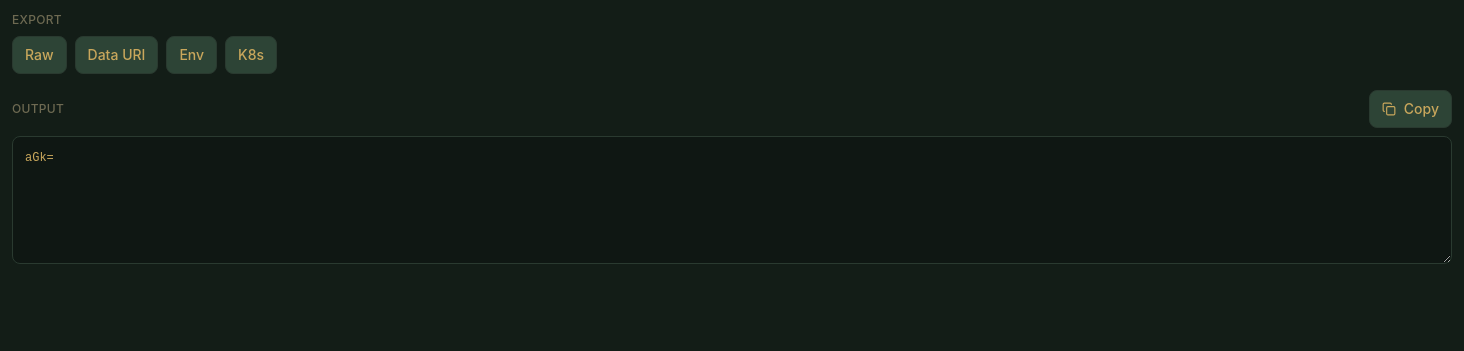
Test: ExportBar › reveals secret fields and renders k8s YAML
This screenshot has width=1464, height=351.
Click the button "K8s". click: (251, 55)
box: [225,36,277,74]
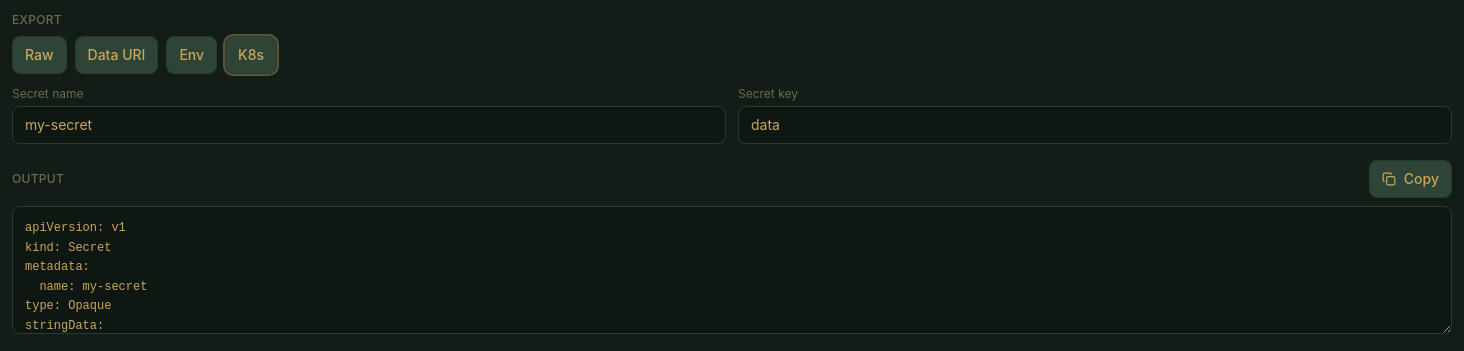
Expected: the text box showing "kind: Secret" is shown, [12,206,1452,334]
Expected: the field showing "my-secret" is shown, [12,106,726,144]
